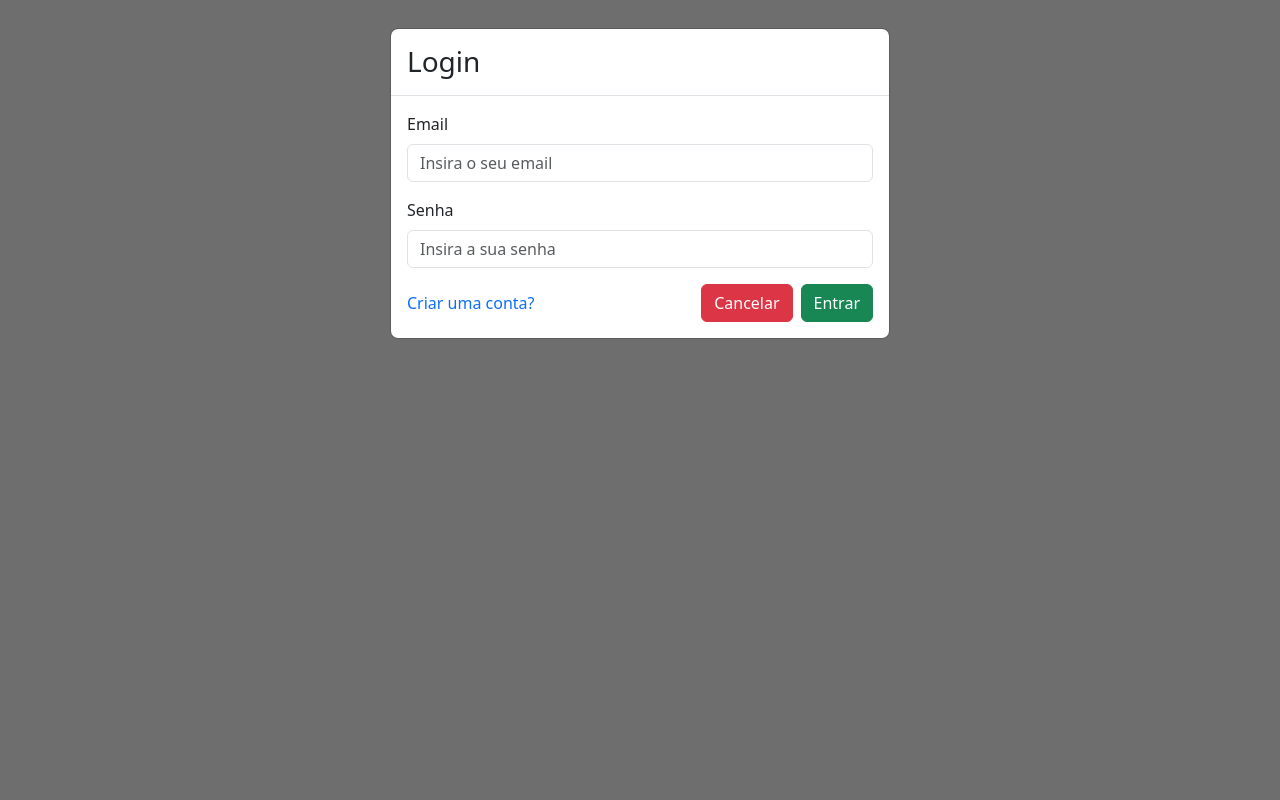
Scenario: LoginForm › Should render error message of api
Type "test@example.com" into the field with placeholder "Insira o seu email" at (640, 163), box [407, 144, 873, 182]
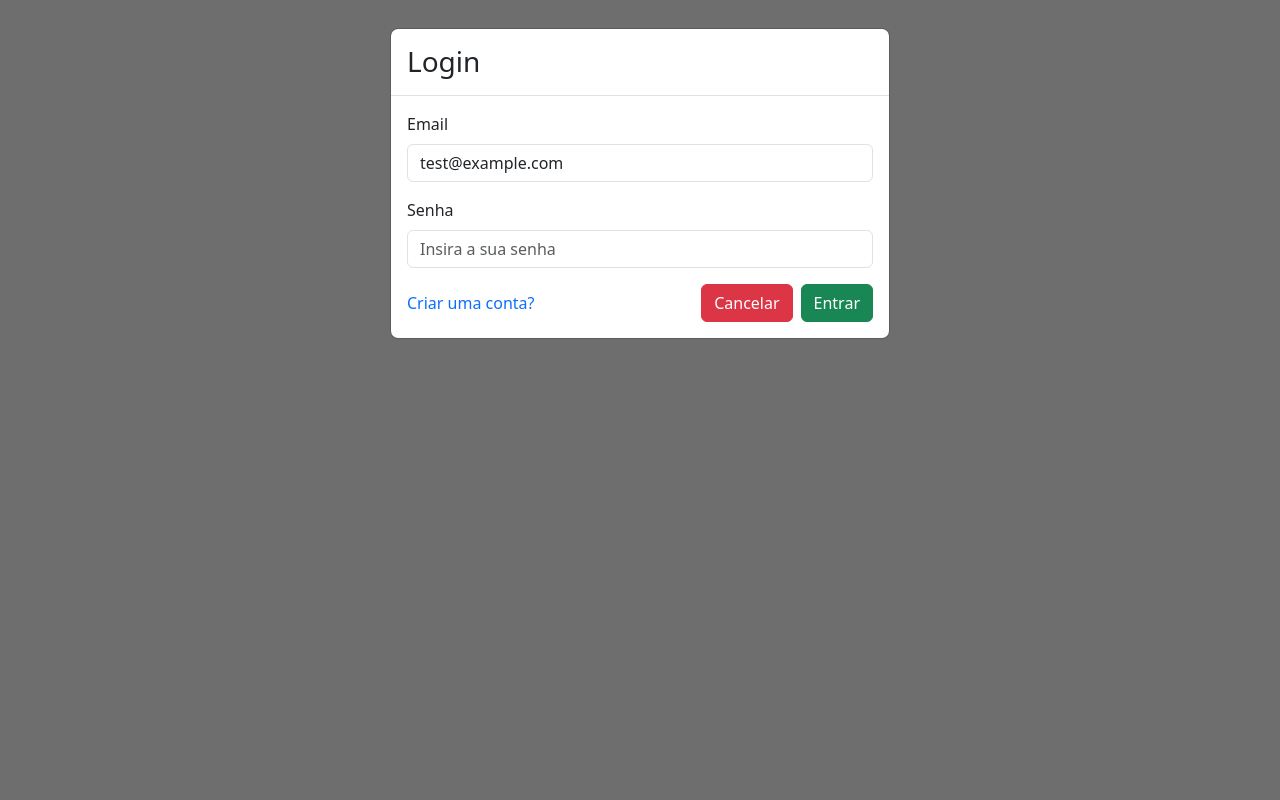
Type "Test123" into the password field with placeholder "Insira a sua senha" at (640, 249), box [407, 230, 873, 268]
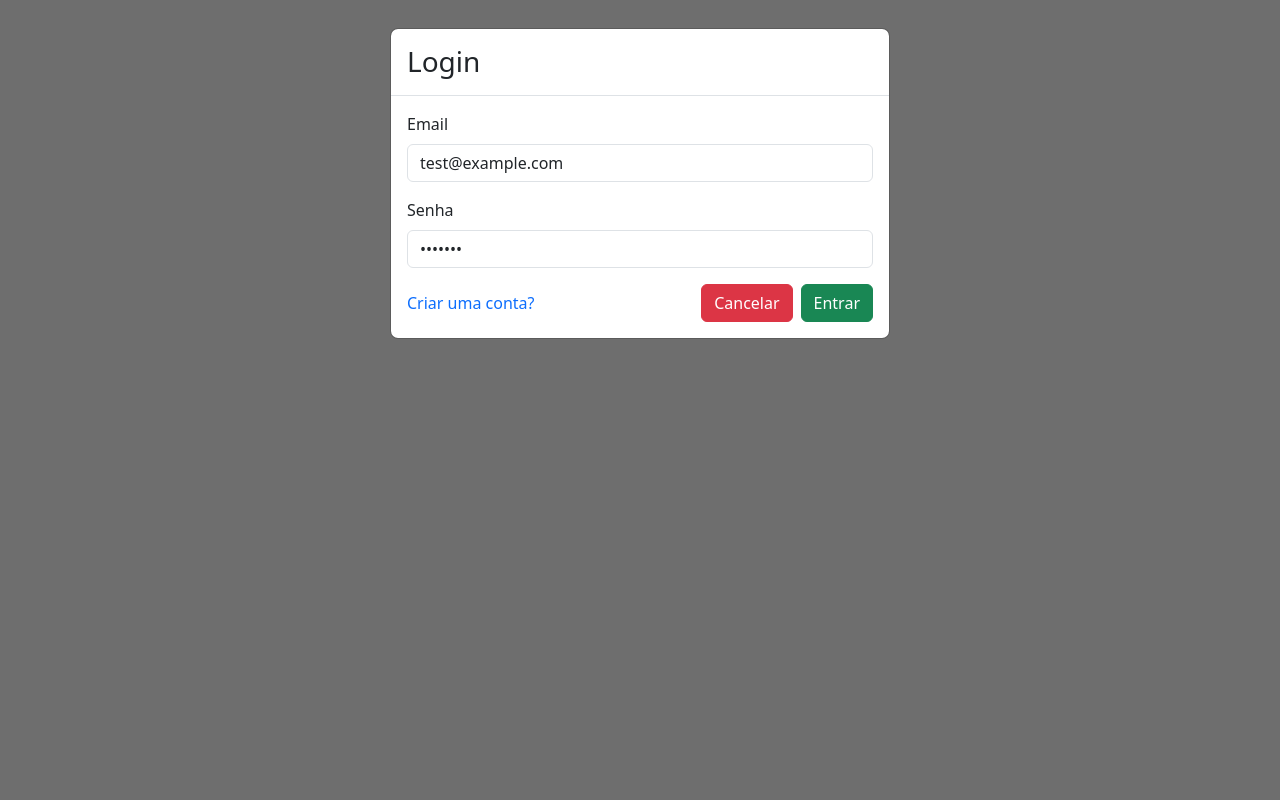
Click the button "Entrar" at (837, 303), box [801, 284, 873, 322]
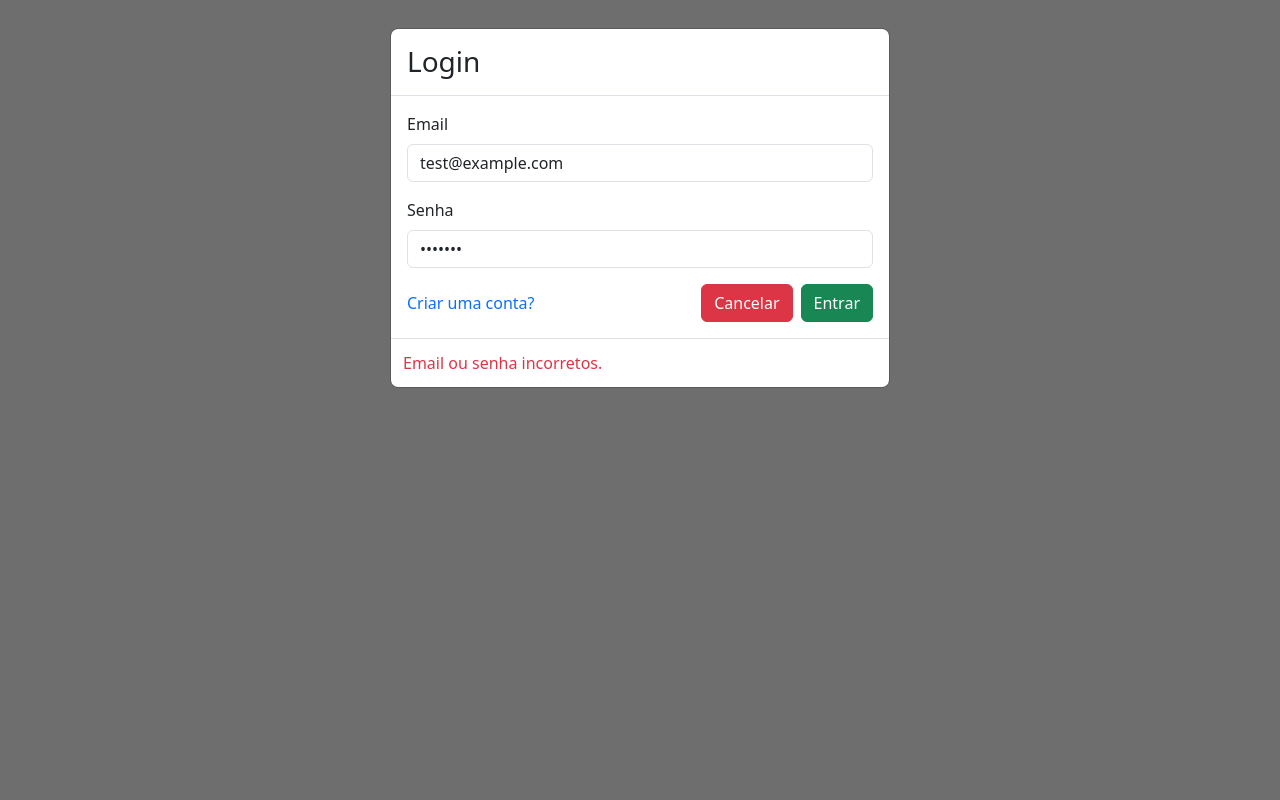
Now the text "Email ou senha incorretos." is shown, box [391, 338, 889, 387]
